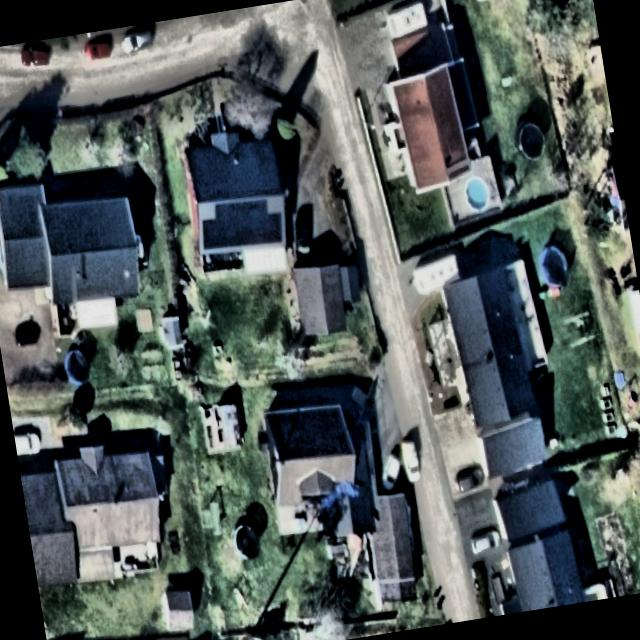roof_pv: (200, 208, 288, 258), (212, 194, 270, 224)
